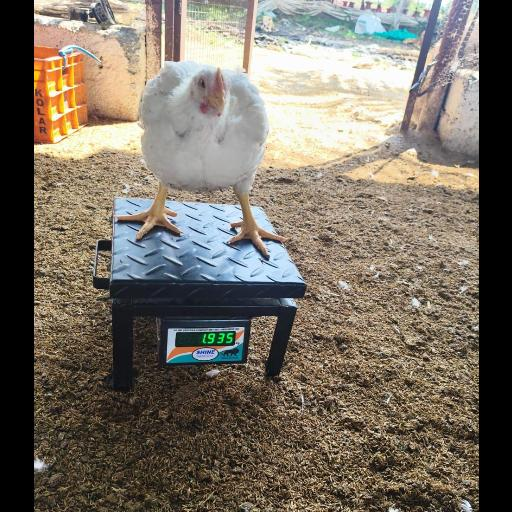chick: (119, 62, 289, 258)
